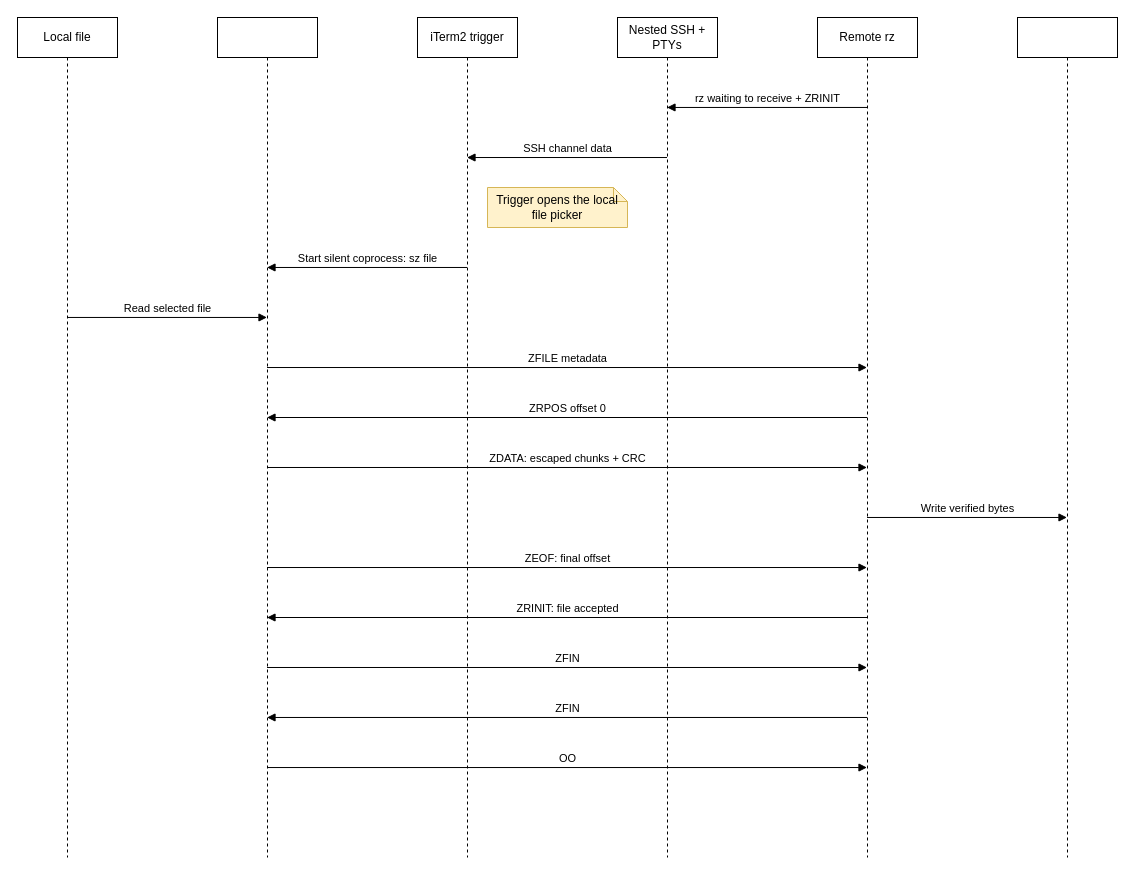
This 1135x875 diagram has some shape labels left out. The shapes that lost their labels are listed below. From the top down, each one's box as (x1, y1, x2, y2) in pixels, then its label:
(216, 16, 318, 858): Local sz
(1016, 16, 1118, 858): Remote file
